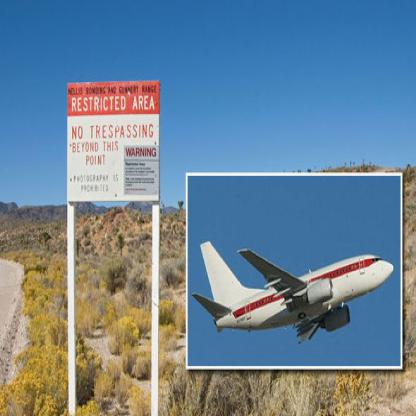CIV_Plane: (187, 232, 396, 354)
